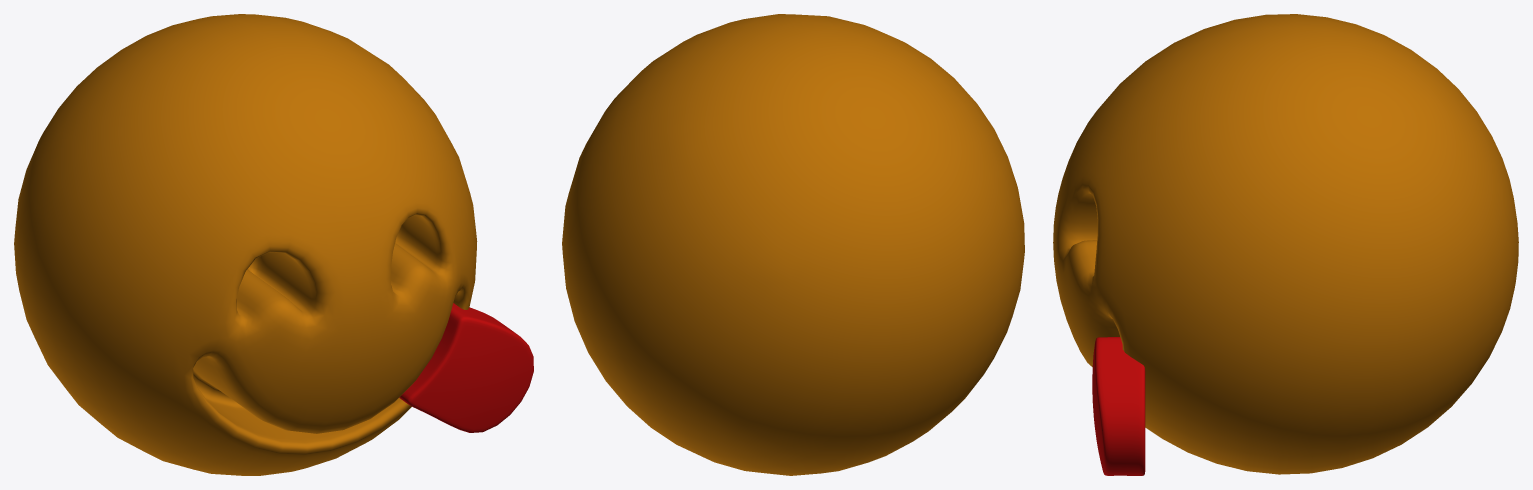
Rendered from yum.FBX.
3 renders of one model, left to right at view 1: azimuth 30°, elevation 25°; view 2: azimuth 150°, elevation 25°; view 3: azimuth 270°, elevation 25°, orthographic.
Parts seen in each view (by area): view 1: Group46695, Group17850; view 2: Group46695; view 3: Group46695, Group17850.
Boxes of the visible parts, left/top/right/bottom form: Group46695: left=14, top=14, right=477, bottom=475; Group17850: left=399, top=303, right=533, bottom=432; Group46695: left=562, top=14, right=1024, bottom=475; Group46695: left=1053, top=14, right=1518, bottom=474; Group17850: left=1092, top=337, right=1145, bottom=475.
Size of the model in its own units: 20.69 by 20.67 by 20.93.
